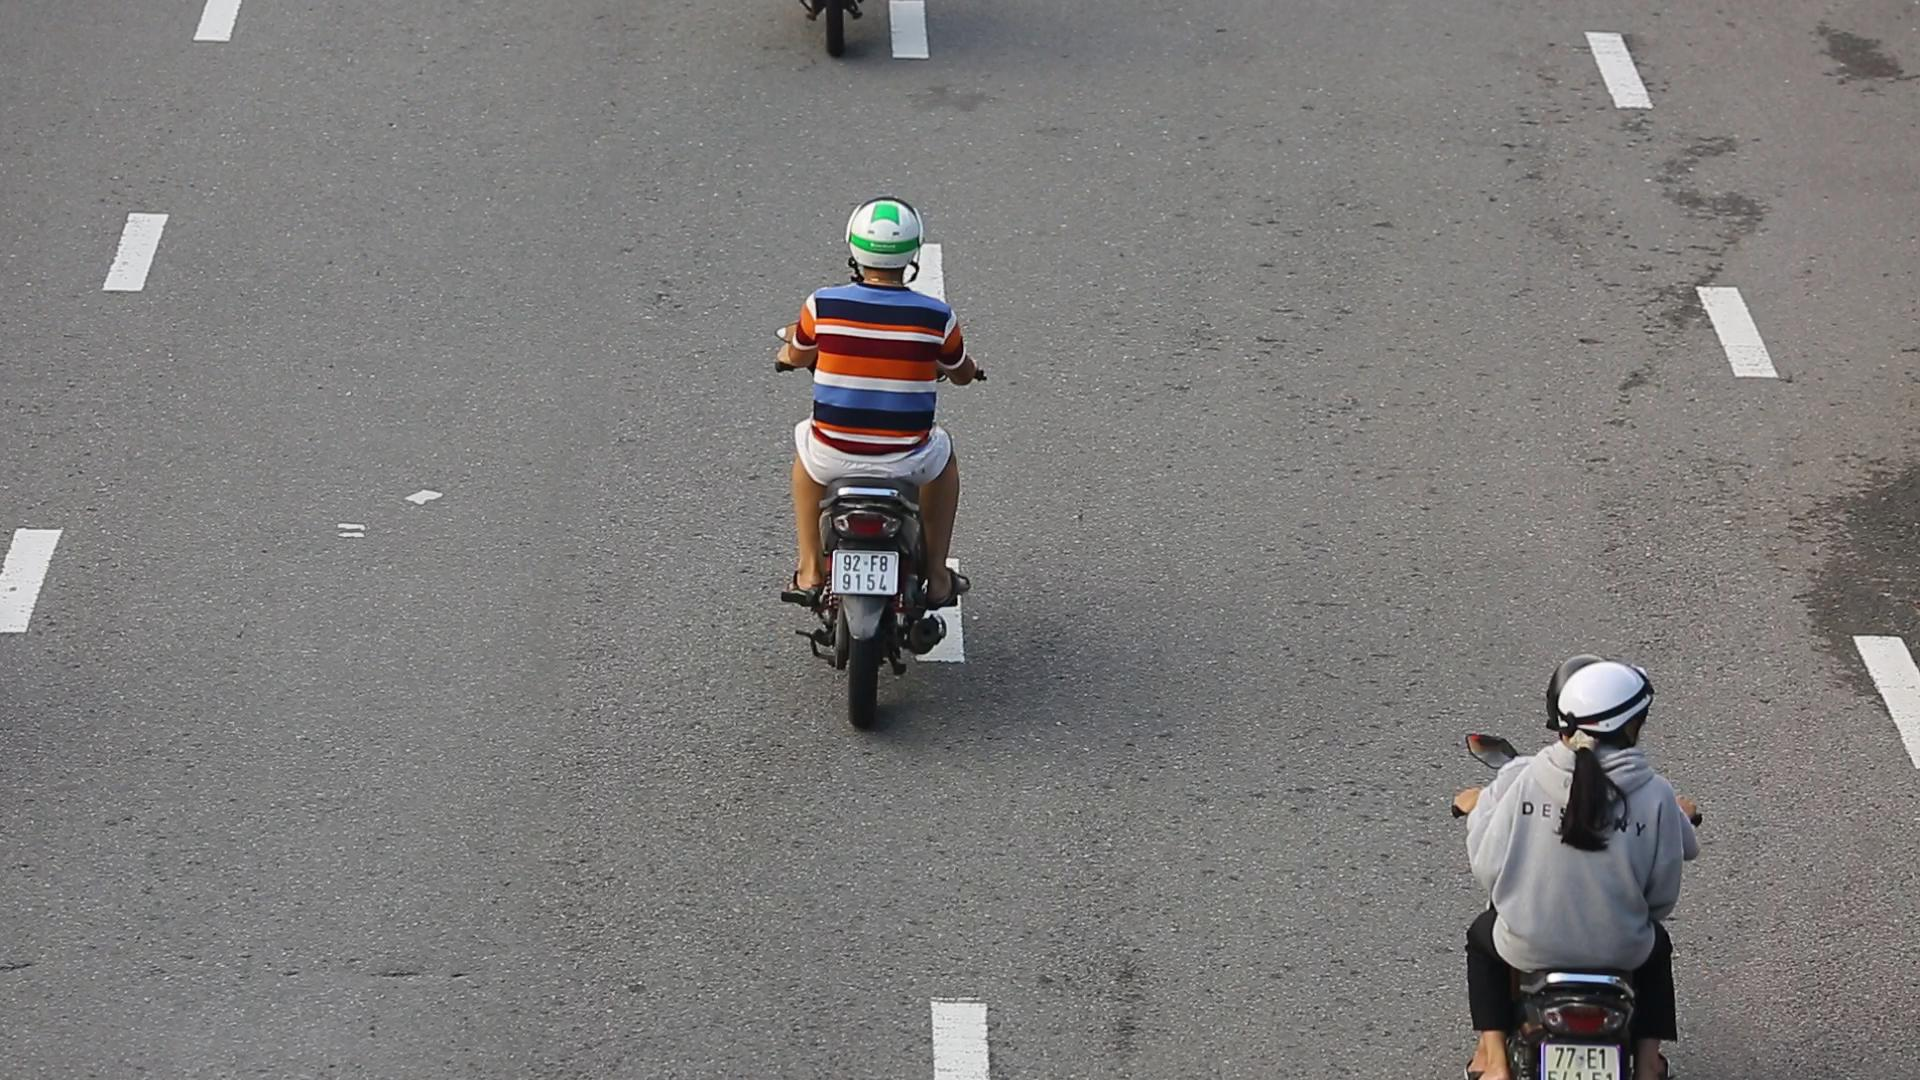motobike: (781, 189, 982, 740)
